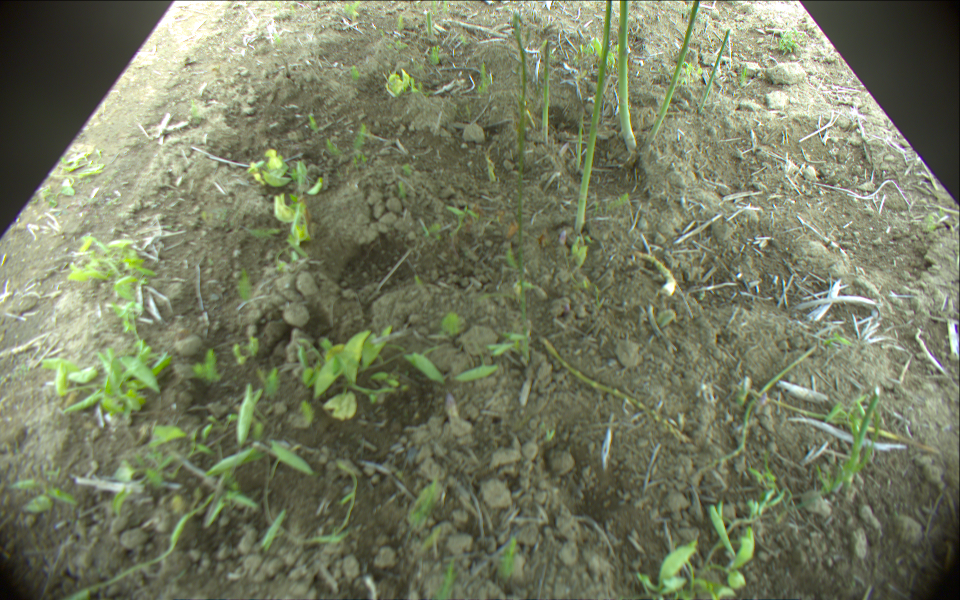aspa: (574, 1, 615, 235), (644, 1, 702, 148), (615, 1, 639, 151), (841, 390, 878, 477), (698, 27, 732, 113), (541, 42, 552, 144)
